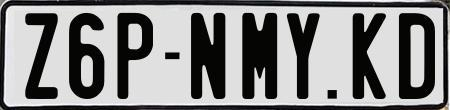6: (67, 13, 108, 100)
D: (398, 10, 435, 96)
K: (352, 13, 386, 99)
M: (240, 10, 278, 102)
N: (189, 12, 226, 99)
P: (114, 13, 150, 103)
Y: (287, 11, 326, 98)
Z: (22, 12, 58, 104)
